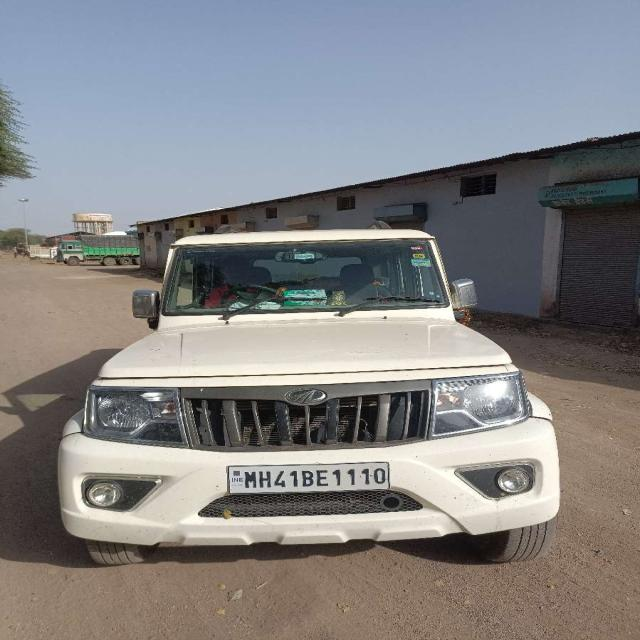light_vehicle: (47, 237, 565, 548)
